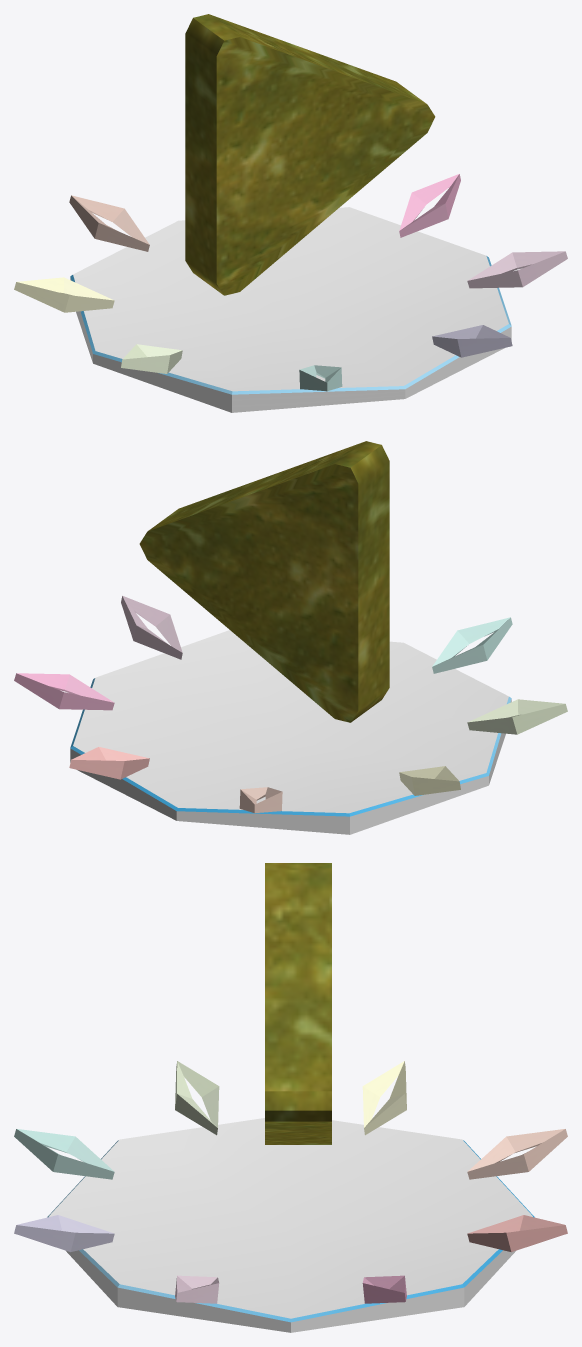
The model's file is SM_Button_01.fbx.
The picture shows the model from 3 angles, top to bottom: view 1: azimuth 30°, elevation 25°; view 2: azimuth 150°, elevation 25°; view 3: azimuth 270°, elevation 25°; orthographic projection. The views are drawn at different scales.
Visible parts, largest first — view 1: SM_Button_01; view 2: SM_Button_01; view 3: SM_Button_01.
Boxes of the visible parts, bbox=[...] form: SM_Button_01: bbox=[14, 14, 567, 412]; SM_Button_01: bbox=[14, 441, 567, 834]; SM_Button_01: bbox=[14, 863, 567, 1332].
Bounding box in the file's own units: 22.58 × 15.82 × 22.58.
